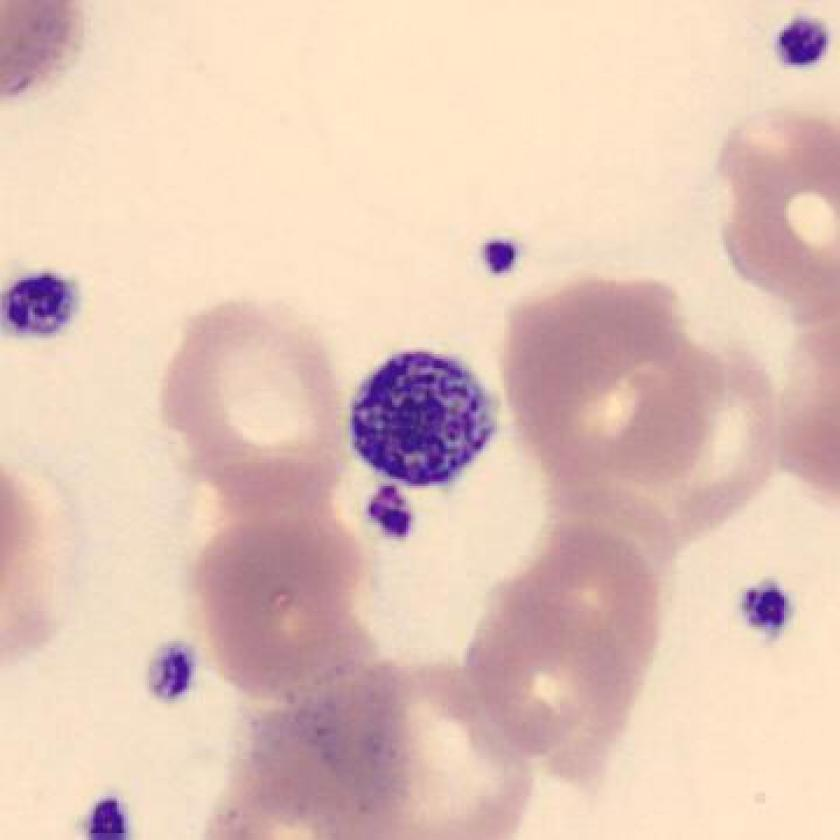platelets: (339, 343, 505, 487), (1, 260, 83, 348), (734, 573, 804, 651), (139, 635, 204, 711), (360, 480, 421, 547), (774, 15, 837, 73), (470, 228, 528, 288), (76, 788, 139, 840)
